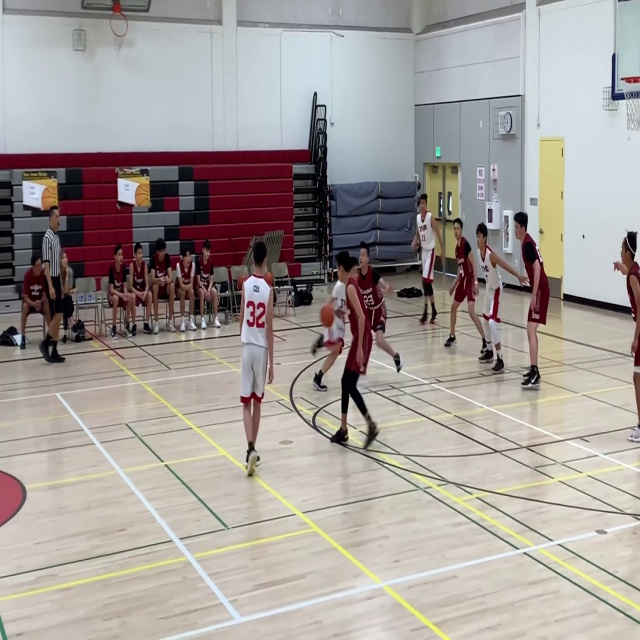Basketball: (320, 304, 334, 327)
